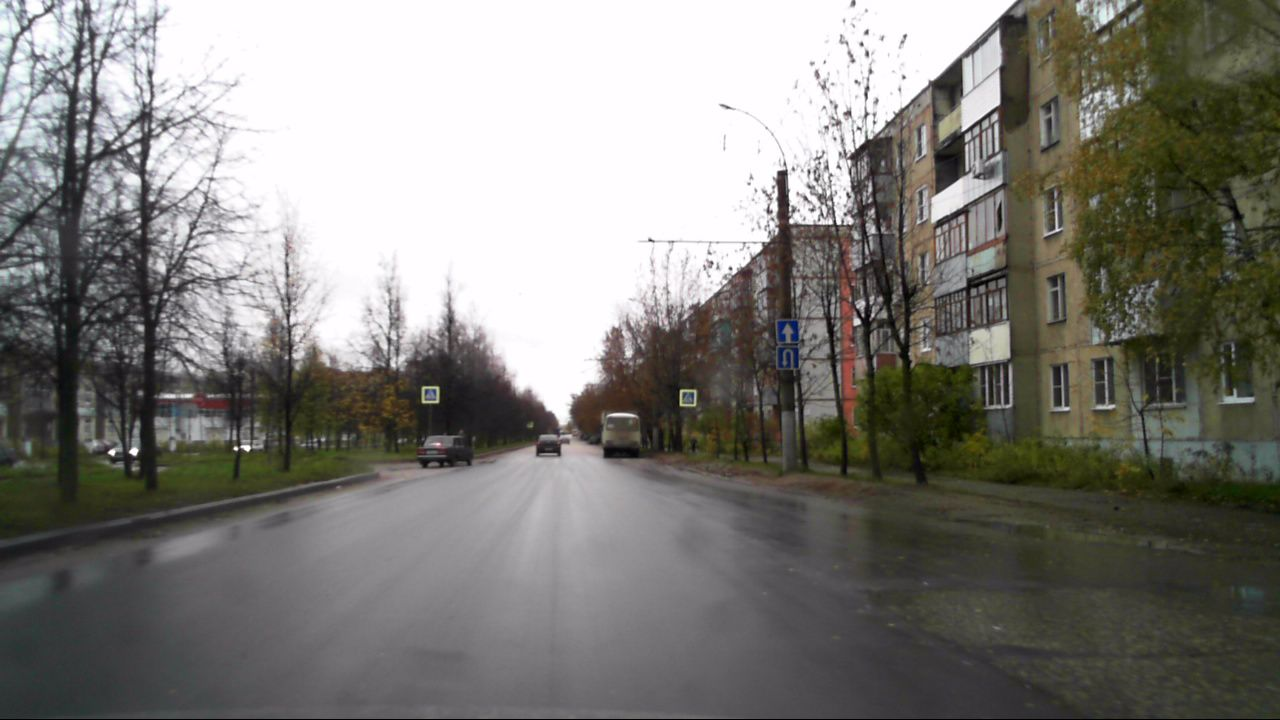U-turn: (778, 347, 799, 369)
